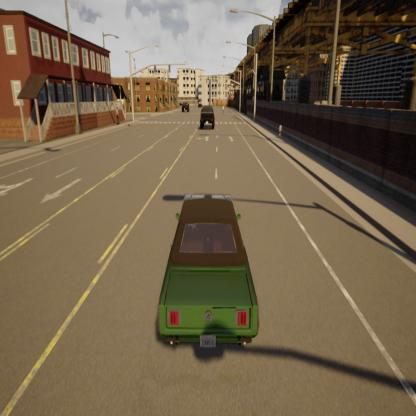Cars: (152, 187, 259, 356), (200, 104, 218, 130), (180, 99, 192, 114), (199, 100, 202, 110)
Pedestrian: (114, 104, 121, 128), (276, 121, 284, 139)
